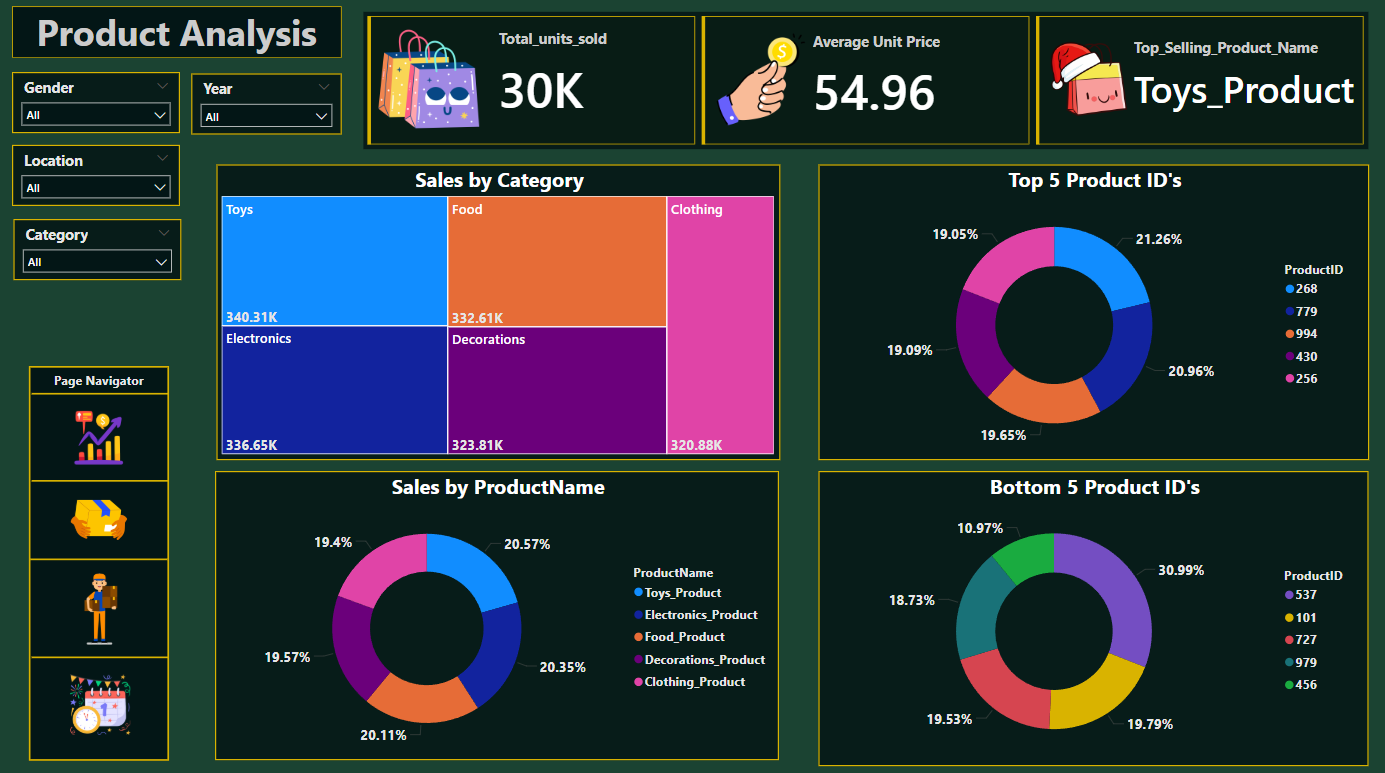

The dashboard page shown, as its layout file describes it:
{"tool":"powerbi","page":{"name":" Product Analysis ","canvas":[1664,936],"ordinal":1},"visuals":[{"type":"treemap","title":"Sales by Category","fields":{"Group":["Christmas sales data.Category"],"Values":["Sum(Christmas sales data.TotalPrice)"]},"box":[260.3,201.6,671.4,352.4],"z":0},{"type":"shape","box":[16.4,13.4,392.5,61.7],"z":1000,"group":"g1"},{"type":"donutChart","title":"Sales by ProductName","fields":{"Category":["Christmas sales data.ProductName"],"Y":["Sum(Christmas sales data.TotalPrice)"]},"box":[258.7,566.7,671.4,344.4],"z":1000},{"type":"donutChart","title":"Top 5 Product ID''s","fields":{"Y":["Sum(Christmas sales data.TotalPrice)"],"Category":["Christmas sales data.ProductID"]},"box":[976.2,201.6,655.6,352.4],"z":2000},{"type":"donutChart","title":"Bottom 5 Product ID''s","fields":{"Y":["Sum(Christmas sales data.TotalPrice)"],"Category":["Christmas sales data.ProductID"]},"box":[976.2,566.2,655,351.2],"z":3000},{"type":"cardVisual","fields":{"Data":["MeasuresTable.Total_units_sold","MeasuresTable.Average Unit Price","MeasuresTable.Top_Selling_Product_Name"]},"box":[435,20,1196.7,163.3],"z":4000},{"type":"textbox","box":[16.5,10.4,392.3,67.2],"z":5000,"group":"g1"},{"type":"slicer","fields":{"Values":["Christmas sales data.Gender"]},"box":[17,92,200,73],"z":5000},{"type":"slicer","fields":{"Values":["Christmas sales data.Location"]},"box":[16.8,178.2,200,73.2],"z":6000},{"type":"slicer","fields":{"Values":["Christmas sales data.Category"]},"box":[18,267,200,73],"z":7000},{"type":"slicer","fields":{"Values":["Christmas sales data.Date.Variation.Date Hierarchy.Year"]},"box":[229.9,92.5,179.1,73.1],"z":8000},{"type":"group","id":"g1","title":"Group 3","box":[16.4,10.4,392.5,67.2],"z":10000},{"type":"group","id":"g2","title":"Group 2","box":[36.7,442,167,470],"z":10001},{"type":"shape","box":[36.7,442,167,470],"z":12000,"group":"g3"},{"type":"group","id":"g3","title":"Group 1","box":[36.7,442,167,470],"z":13000,"group":"g2"},{"type":"image","box":[73.2,582.2,94.1,86.4],"z":13000,"group":"g3"},{"type":"textbox","box":[38.7,443.3,163.3,31],"z":14000,"group":"g2"},{"type":"image","box":[77.3,486.2,86.1,81],"z":14000,"group":"g3"},{"type":"image","box":[74.7,801.8,94.1,86.1],"z":15000,"group":"g3"},{"type":"image","box":[74.7,683.8,94.7,94.7],"z":16000,"group":"g3"},{"type":"shape","box":[39.6,468.1,163.2,12.7],"z":17000,"group":"g3"},{"type":"shape","box":[39.6,572.1,162.9,13.4],"z":19000,"group":"g3"},{"type":"shape","box":[38.5,665.2,163.5,13.7],"z":20000,"group":"g3"},{"type":"shape","box":[39.6,782.4,163.5,13.7],"z":21000,"group":"g3"}]}

Visuals, with their boxes in screenshot pixels (x1, y1, x2, y2), scaled from the page's 1664x936 canvas onto the 1385x773 screenshot:
"Sales by Category" treemap: <region>217, 166, 775, 458</region>
shape: <region>14, 11, 340, 62</region>
"Sales by ProductName" donutChart: <region>215, 468, 774, 752</region>
"Top 5 Product ID''s" donutChart: <region>813, 166, 1358, 458</region>
"Bottom 5 Product ID''s" donutChart: <region>813, 468, 1358, 758</region>
cardVisual - MeasuresTable.Total_units_sold x MeasuresTable.Average Unit Price: <region>362, 17, 1358, 151</region>
textbox: <region>14, 9, 340, 64</region>
slicer - Christmas sales data.Gender: <region>14, 76, 181, 136</region>
slicer - Christmas sales data.Location: <region>14, 147, 180, 208</region>
slicer - Christmas sales data.Category: <region>15, 221, 181, 281</region>
slicer - Christmas sales data.Date.Variation.Date Hierarchy.Year: <region>191, 76, 340, 137</region>
"Group 3" group: <region>14, 9, 340, 64</region>
"Group 2" group: <region>31, 365, 170, 753</region>
shape: <region>31, 365, 170, 753</region>
"Group 1" group: <region>31, 365, 170, 753</region>
image: <region>61, 481, 139, 552</region>
textbox: <region>32, 366, 168, 392</region>
image: <region>64, 402, 136, 468</region>
image: <region>62, 662, 140, 733</region>
image: <region>62, 565, 141, 643</region>
shape: <region>33, 387, 169, 397</region>
shape: <region>33, 472, 169, 484</region>
shape: <region>32, 549, 168, 561</region>
shape: <region>33, 646, 169, 657</region>
